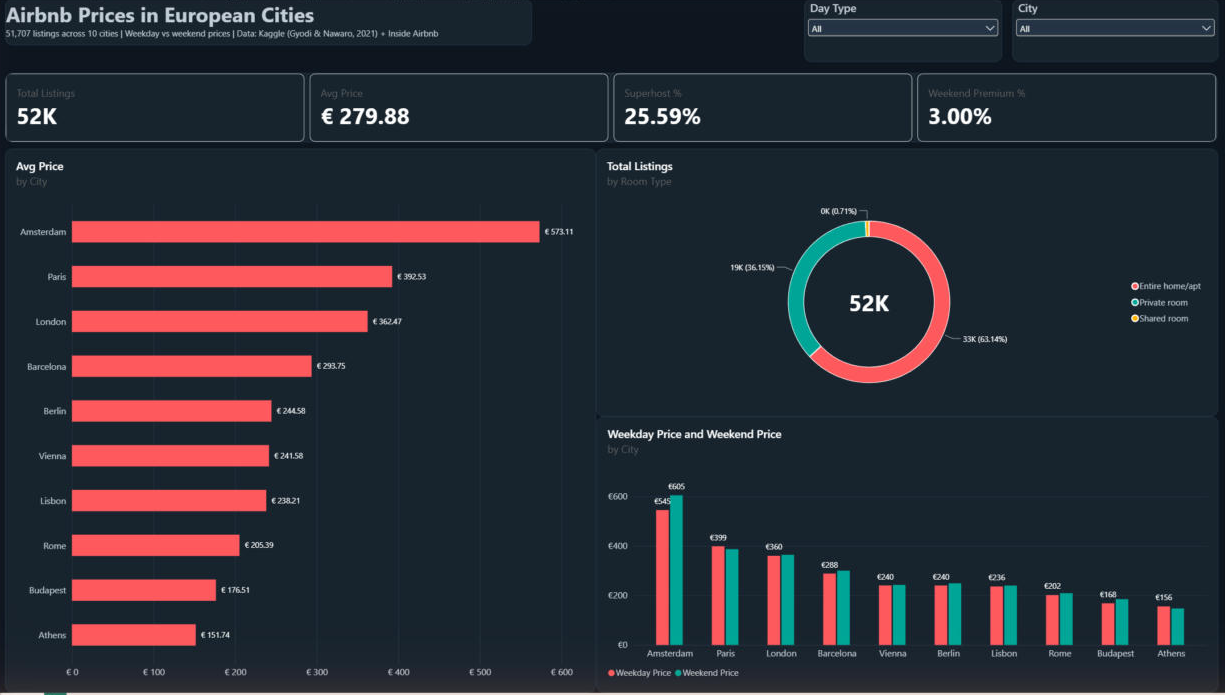

This screenshot's page, from the dashboard's own definition file:
{"tool":"powerbi","page":{"name":"Page 1","canvas":[1920,1080],"ordinal":0},"visuals":[{"type":"cardVisual","fields":{"Data":["Listings.Total Listings","Listings.Avg Price","Listings.Superhost %","Listings.Weekend Premium %"]},"box":[9.9,114.8,1886.6,108.5],"z":0},{"type":"clusteredBarChart","fields":{"Category":["Cities.city_name"],"Y":["Listings.Avg Price"]},"box":[9.8,232.6,919.8,847.1],"z":1000},{"type":"donutChart","fields":{"Category":["RoomTypes.room_type_name"],"Y":["Listings.Total Listings"]},"box":[929.6,232.6,967.9,417.2],"z":2000},{"type":"slicer","fields":{"Values":["DayTypes.day_type_name"]},"box":[1253.8,0,308.2,97.6],"z":3000},{"type":"slicer","fields":{"Values":["Cities.city_name"]},"box":[1577.4,0,320.9,97.6],"z":4000},{"type":"clusteredColumnChart","fields":{"Category":["Cities.City"],"Y":["Cities.Weekday Price","Cities.Weekend Price"]},"box":[930,650,968,430],"z":5000},{"type":"textbox","box":[9.9,0,820,72],"z":6000}]}

Visuals, with their boxes in screenshot pixels (x1, y1, x2, y2), scaled from the page's 1920x1080 canvas onto the 1225x695 screenshot:
cardVisual - Listings.Total Listings x Listings.Avg Price: (6,74,1210,144)
clusteredBarChart - Cities.city_name x Listings.Avg Price: (6,150,593,694)
donutChart - RoomTypes.room_type_name x Listings.Total Listings: (593,150,1211,418)
slicer - DayTypes.day_type_name: (800,0,997,63)
slicer - Cities.city_name: (1006,0,1211,63)
clusteredColumnChart - Cities.City x Cities.Weekday Price: (593,418,1211,694)
textbox: (6,0,529,46)
